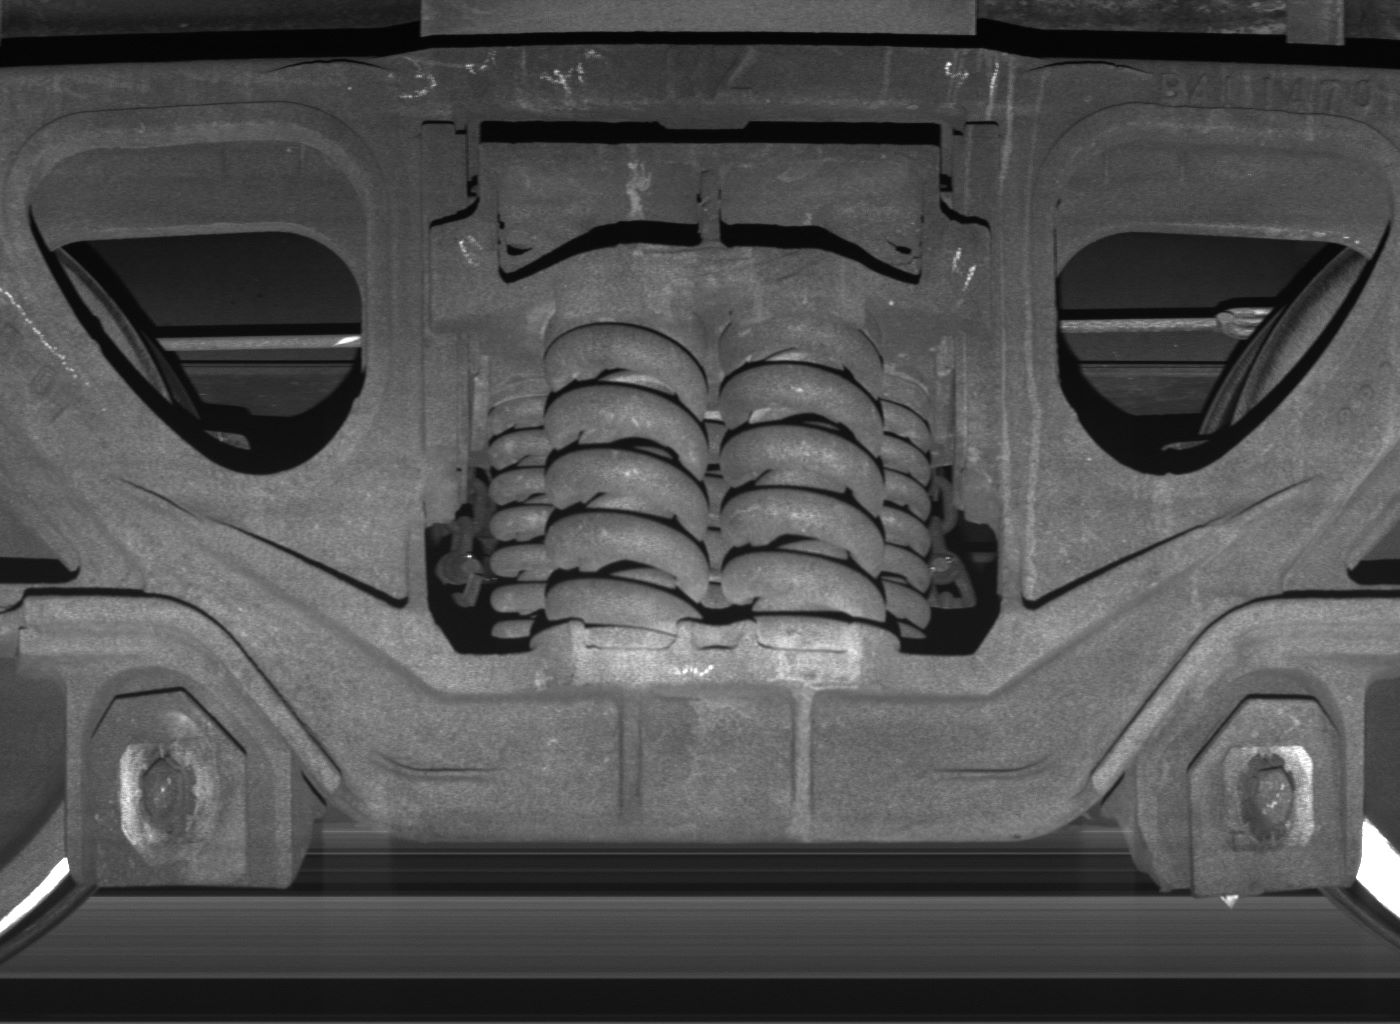normal: (1133, 667, 1366, 898), (68, 663, 293, 892)
